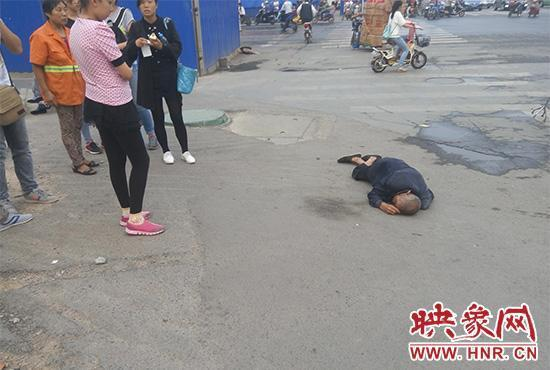Fall-Detected: (329, 143, 436, 218)
